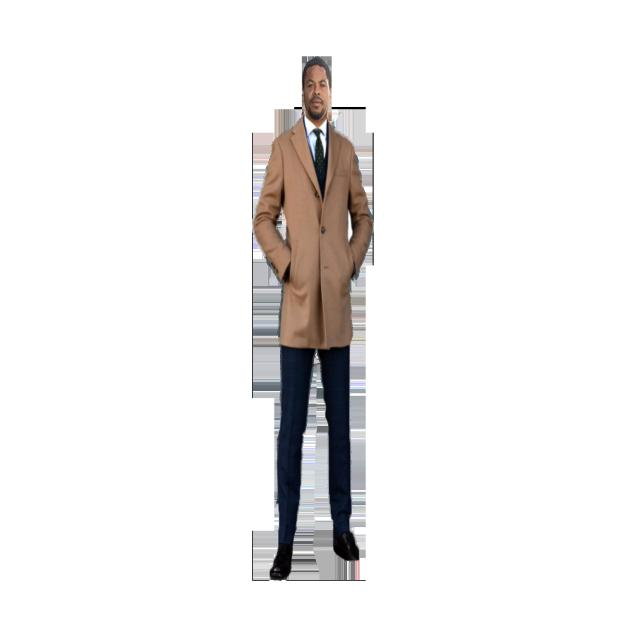jovem: (250, 51, 376, 571)
